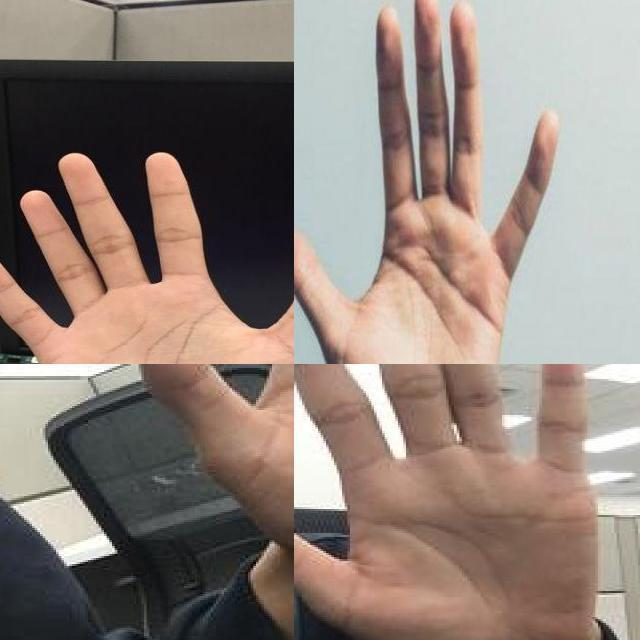no-gloves: (294, 0, 558, 364), (294, 364, 600, 640), (0, 143, 294, 364), (88, 364, 294, 606)
